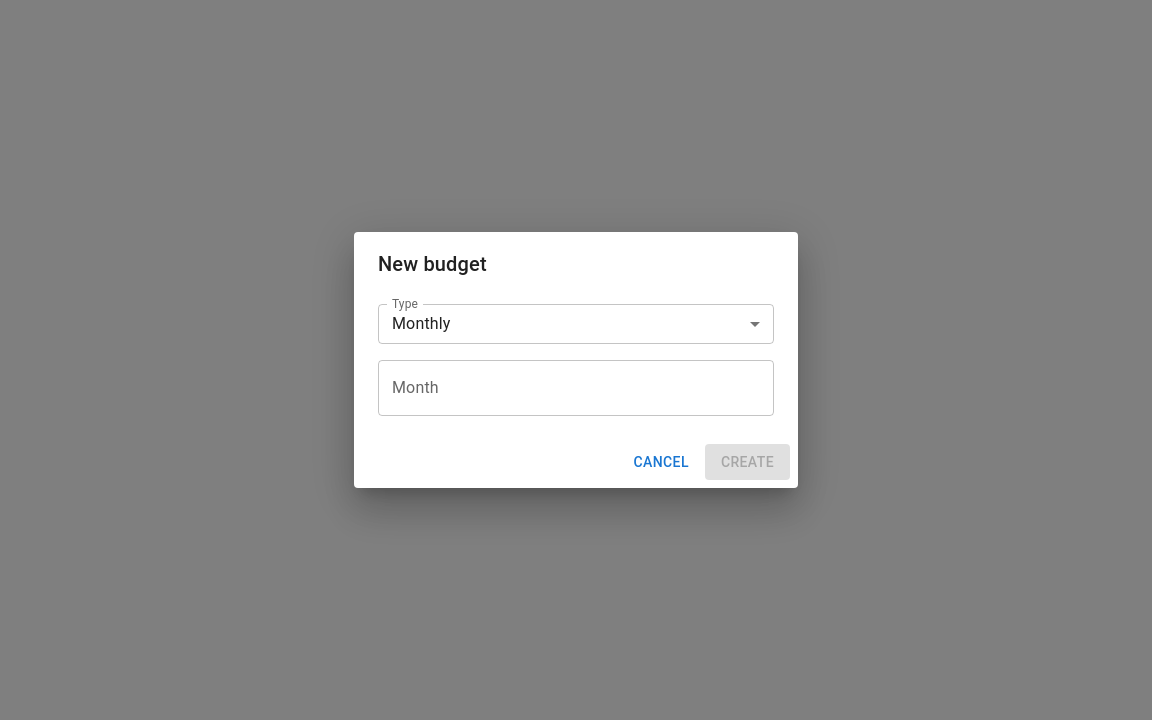
Test: CreateBudgetDialog rendering › shows a Name field and no date inputs for Project
The width and height of the screenshot is (1152, 720).
Press the mouse on the dropdown named "type": (421, 324) x1=392 y1=314 x2=450 y2=333
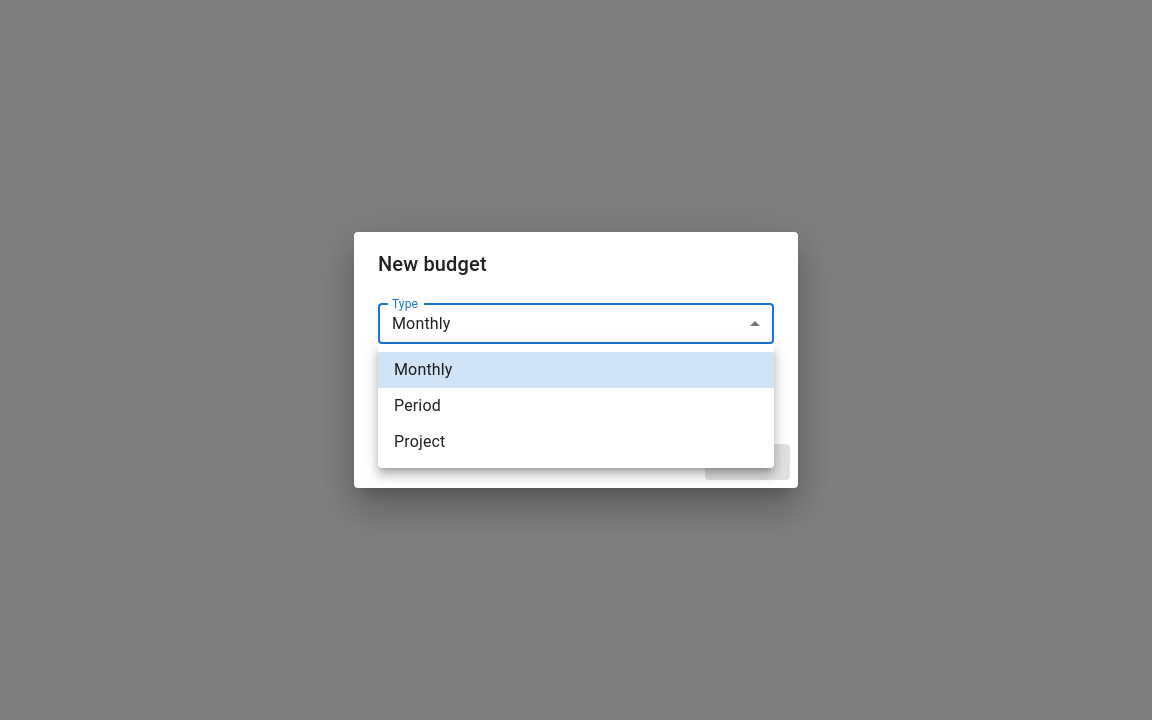
Click the option "Project": click(420, 442) x1=394 y1=432 x2=446 y2=451
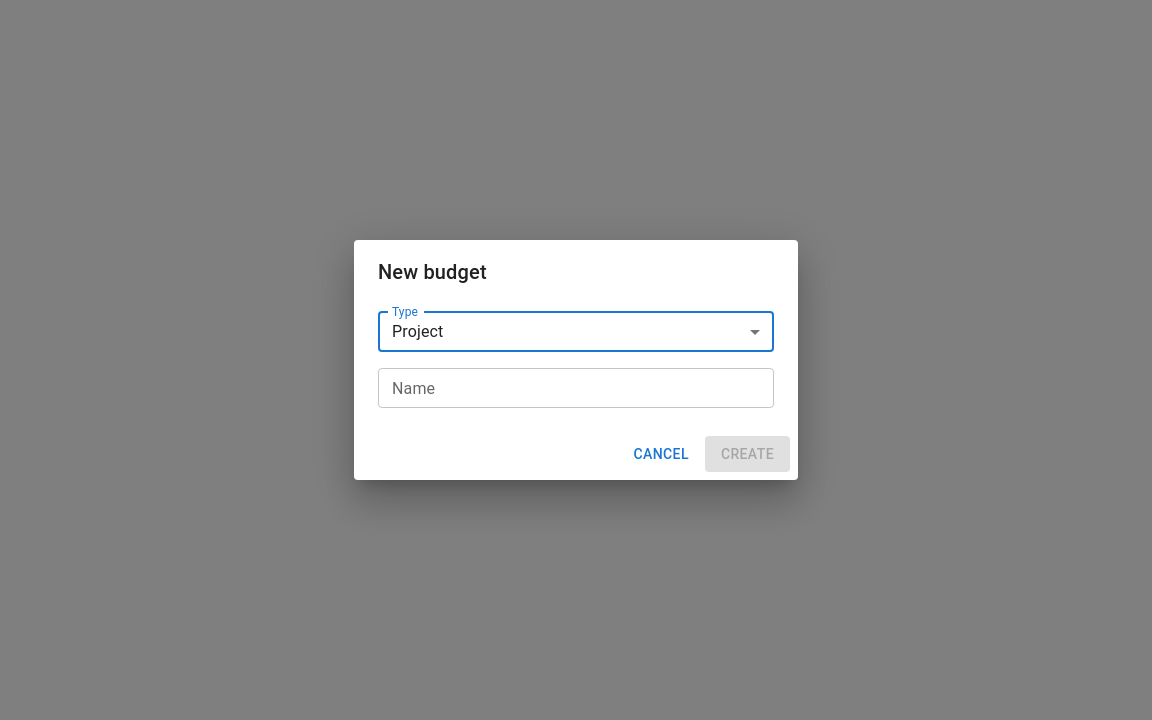
Now the field labelled "Name" is shown, box x1=378 y1=368 x2=774 y2=408
Now the dropdown labelled "Month" is gone
